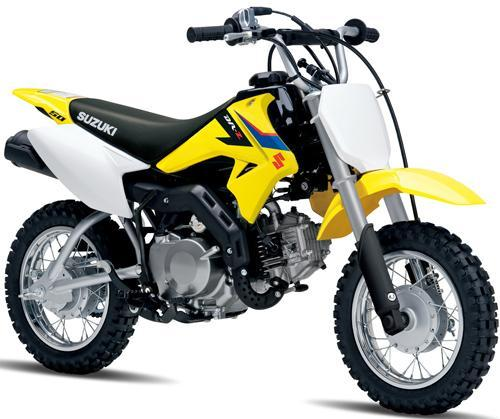motorbike: (5, 6, 500, 416)
